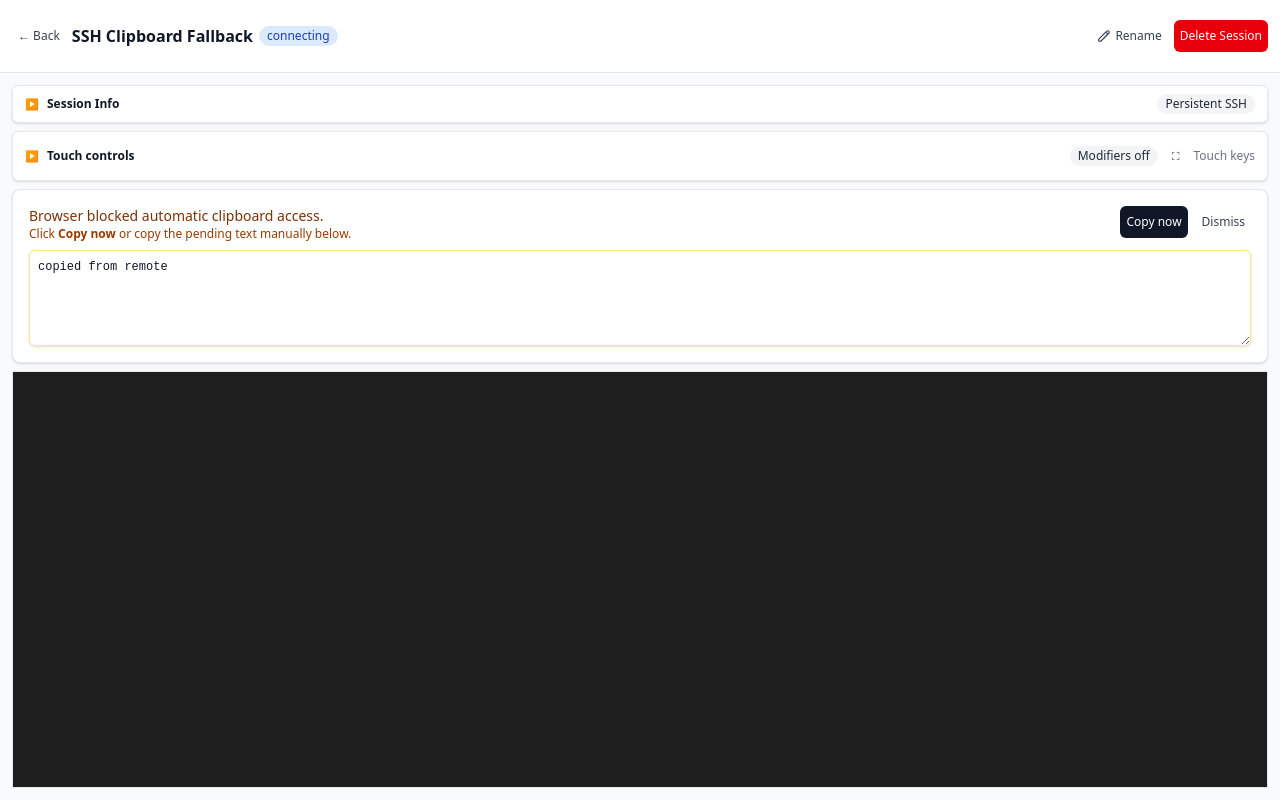
Test case: SshSessionDetails › shows a copy-now fallback when automatic clipboard writes are blocked
Expected: the heading "SSH Clipboard Fallback" is shown, [72,24,253,48]
Expected: the text box named "Pending terminal clipboard text" is shown, [29,250,1251,346]
What coordinates should you click on to do the following:
click the button "Copy now"
I would click on:
 (1154, 222)
Its box is [1120,206,1188,238].
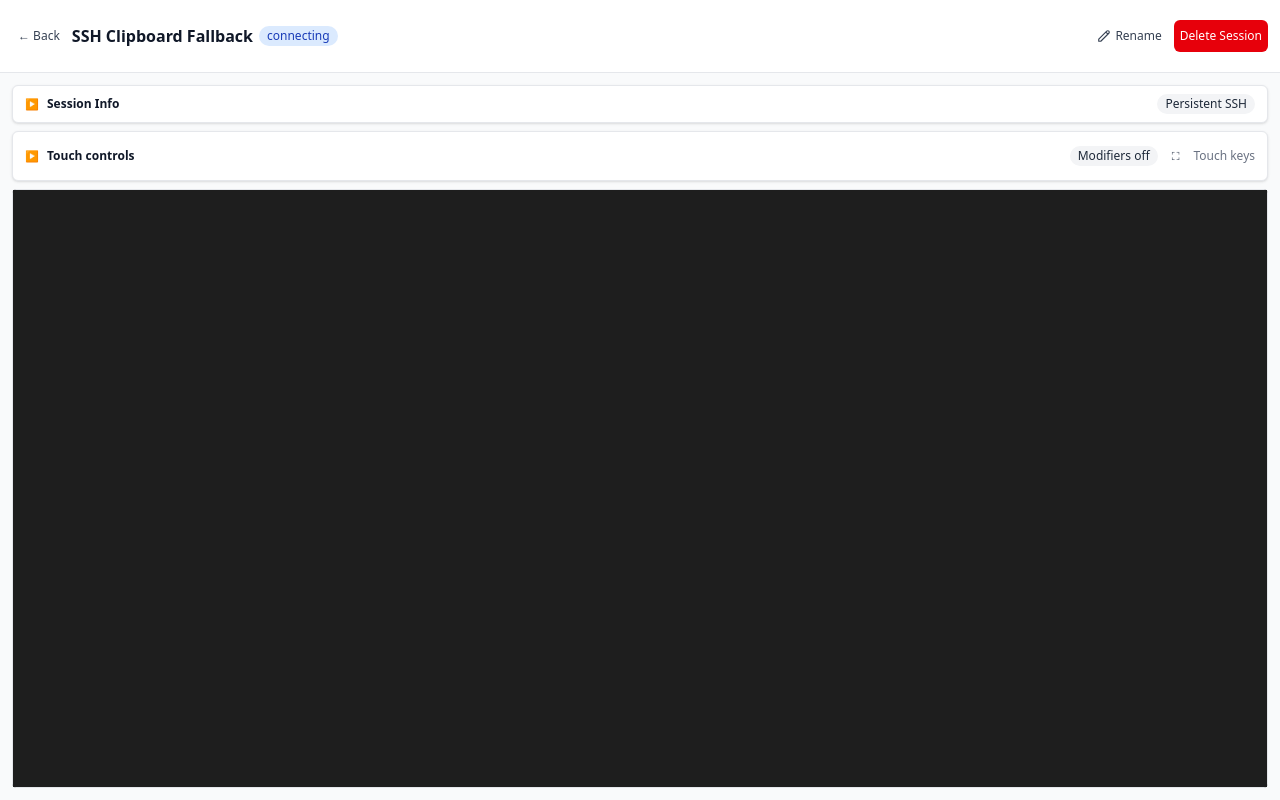
Now the element with test id "ssh-terminal-clipboard-fallback" is gone
